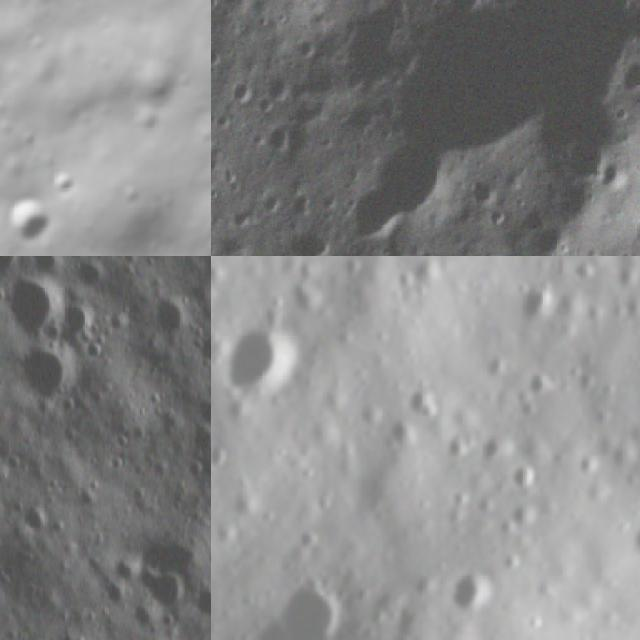crater: (212, 316, 298, 401), (0, 336, 80, 413), (120, 554, 198, 620), (0, 266, 66, 343), (147, 285, 205, 347), (448, 566, 506, 628), (0, 190, 56, 250), (498, 456, 548, 502), (595, 157, 635, 203), (58, 291, 97, 338), (258, 65, 301, 107), (12, 500, 55, 540), (265, 118, 300, 158), (70, 256, 110, 290), (481, 202, 515, 236), (45, 165, 78, 198), (190, 577, 211, 623), (29, 256, 69, 278), (622, 0, 640, 48), (191, 391, 211, 431), (618, 61, 640, 96), (14, 126, 40, 149), (211, 43, 230, 74), (312, 235, 337, 256), (629, 212, 640, 248), (211, 129, 219, 163)
